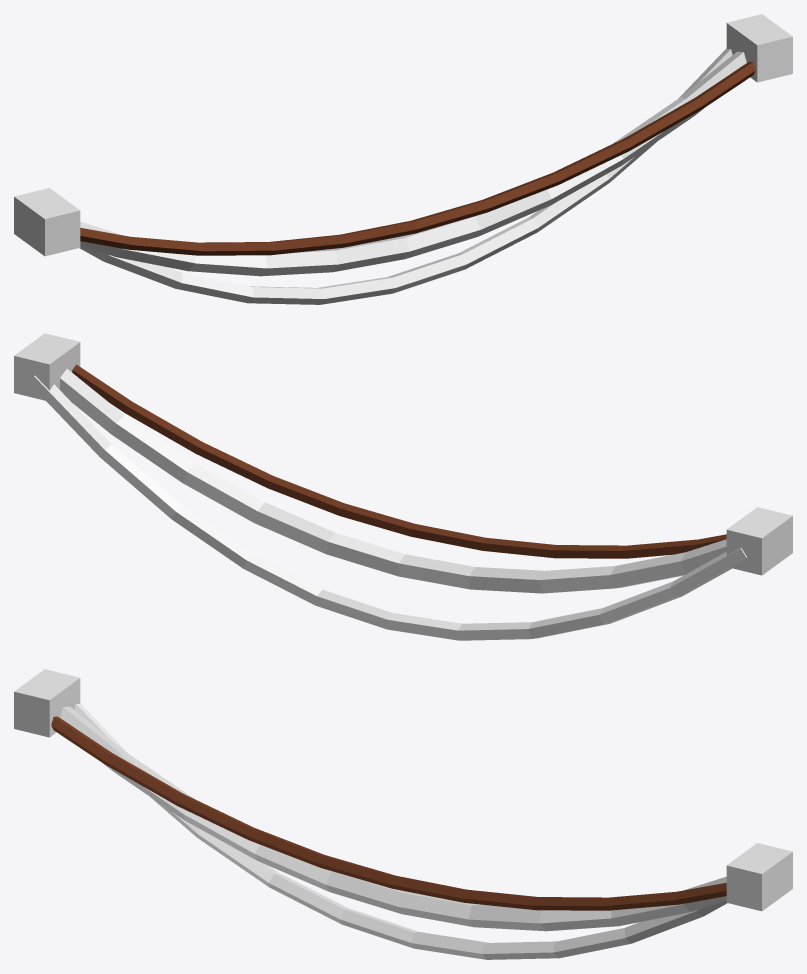
Rendered from Cable_Hanging_4m.fbx.
3 views of the same model, one above another, from view 1: azimuth 30°, elevation 25°; view 2: azimuth 150°, elevation 25°; view 3: azimuth 330°, elevation 25° (orthographic).
Visible parts, largest first — view 1: Cable_Hanging_4m; view 2: Cable_Hanging_4m; view 3: Cable_Hanging_4m.
Part boxes in pixels (box(x1,y1,x2,y2)): Cable_Hanging_4m: box(14, 14, 792, 304); Cable_Hanging_4m: box(14, 333, 792, 640); Cable_Hanging_4m: box(14, 669, 792, 959).
Size of the model in its own units: 4.2 by 0.9928 by 0.3064.
